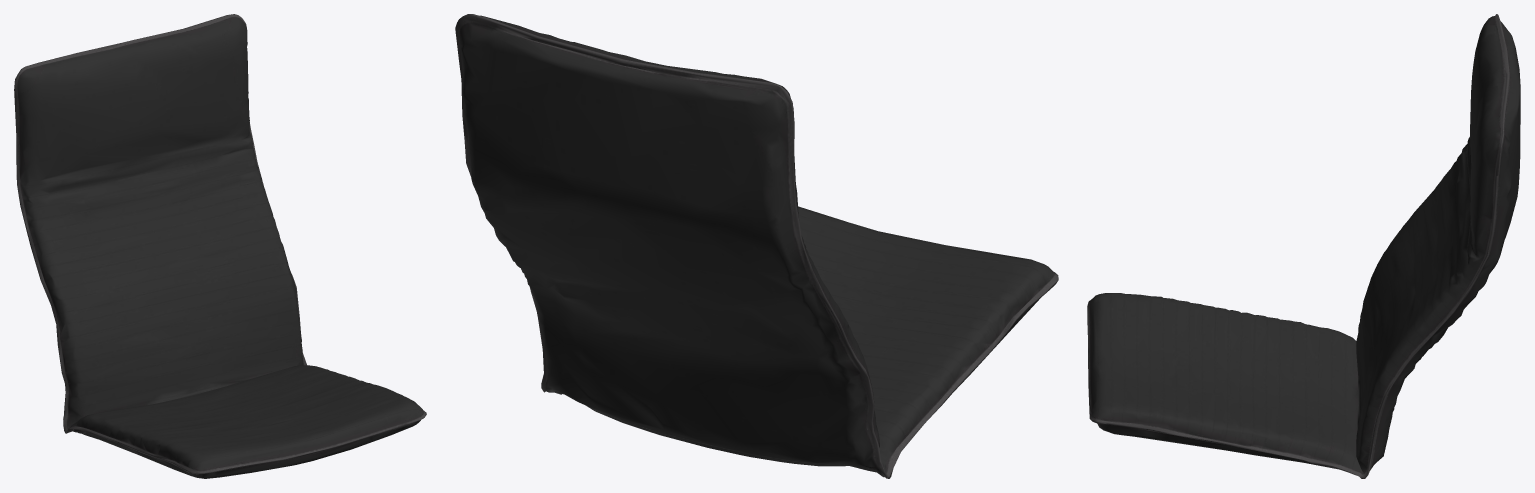
3 views of the same model, side by side, from view 1: azimuth 30°, elevation 25°; view 2: azimuth 150°, elevation 25°; view 3: azimuth 270°, elevation 25° (orthographic). The views are drawn at different scales.
Visible parts, largest first — view 1: ProcessedMeshNode; view 2: ProcessedMeshNode; view 3: ProcessedMeshNode.
Part boxes in pixels (x1,y1,x2,y2): ProcessedMeshNode: (14,14,426,478); ProcessedMeshNode: (455,14,1058,478); ProcessedMeshNode: (1087,14,1520,478).
Bounding box in the file's own units: 0.5796 × 0.7322 × 0.8173.
Materials: 1 (1 with a texture image).
